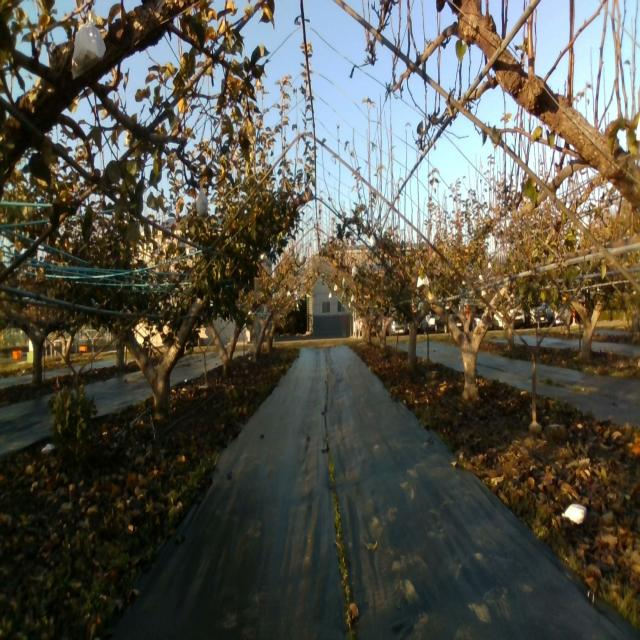pearbags: (72, 20, 108, 80), (194, 182, 208, 224)
